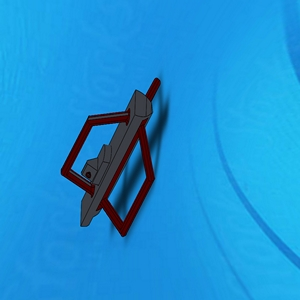submarine: (60, 78, 163, 233)
